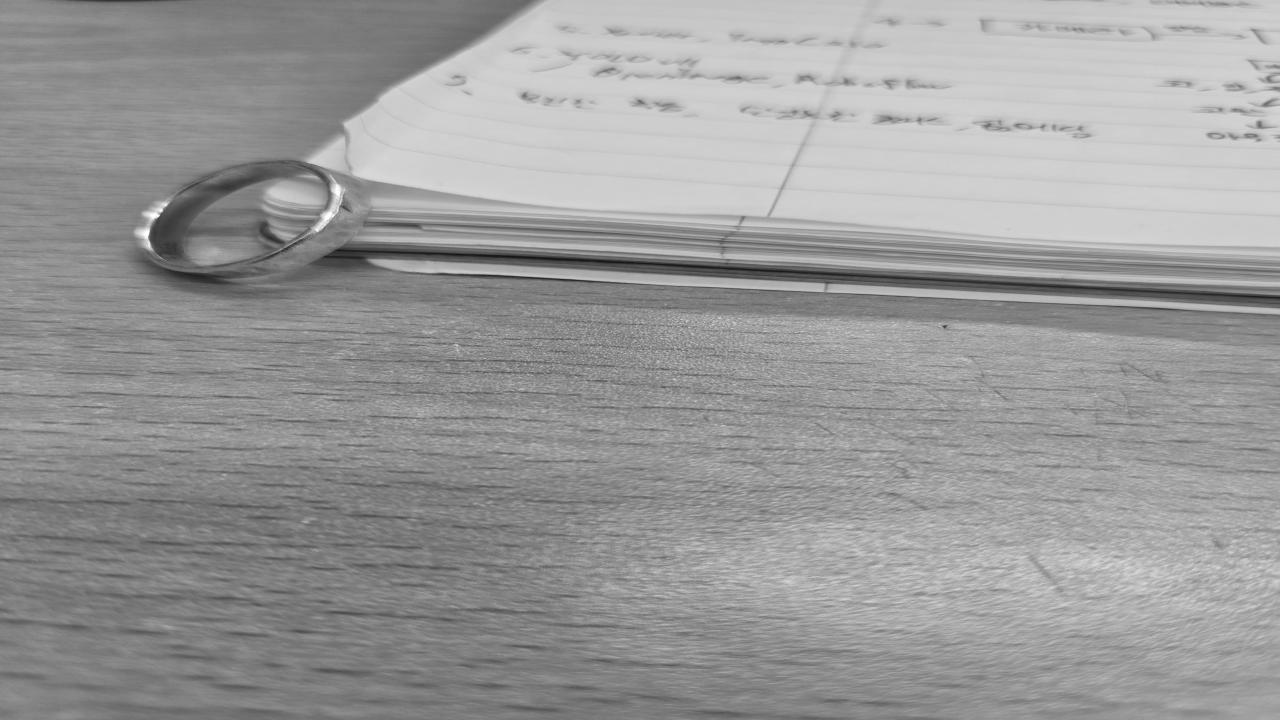ring: (134, 158, 374, 278)
